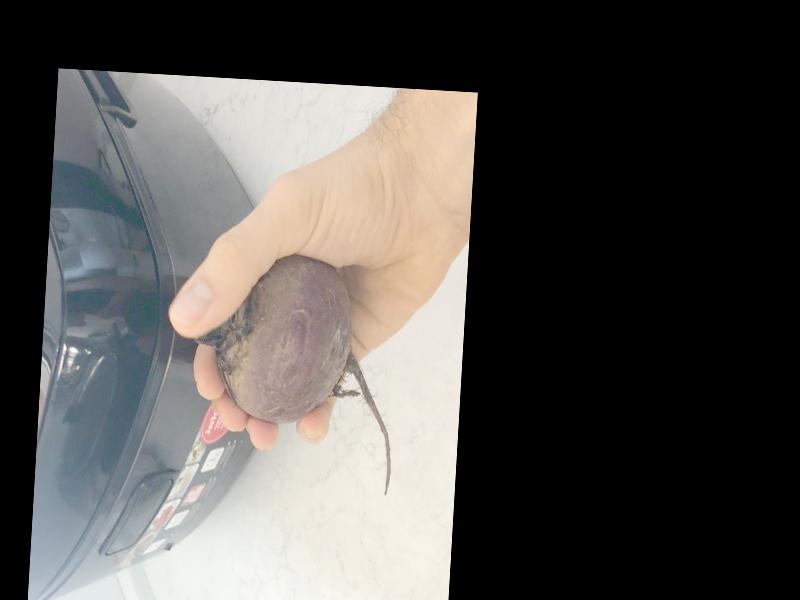Beet: (189, 250, 402, 495)
